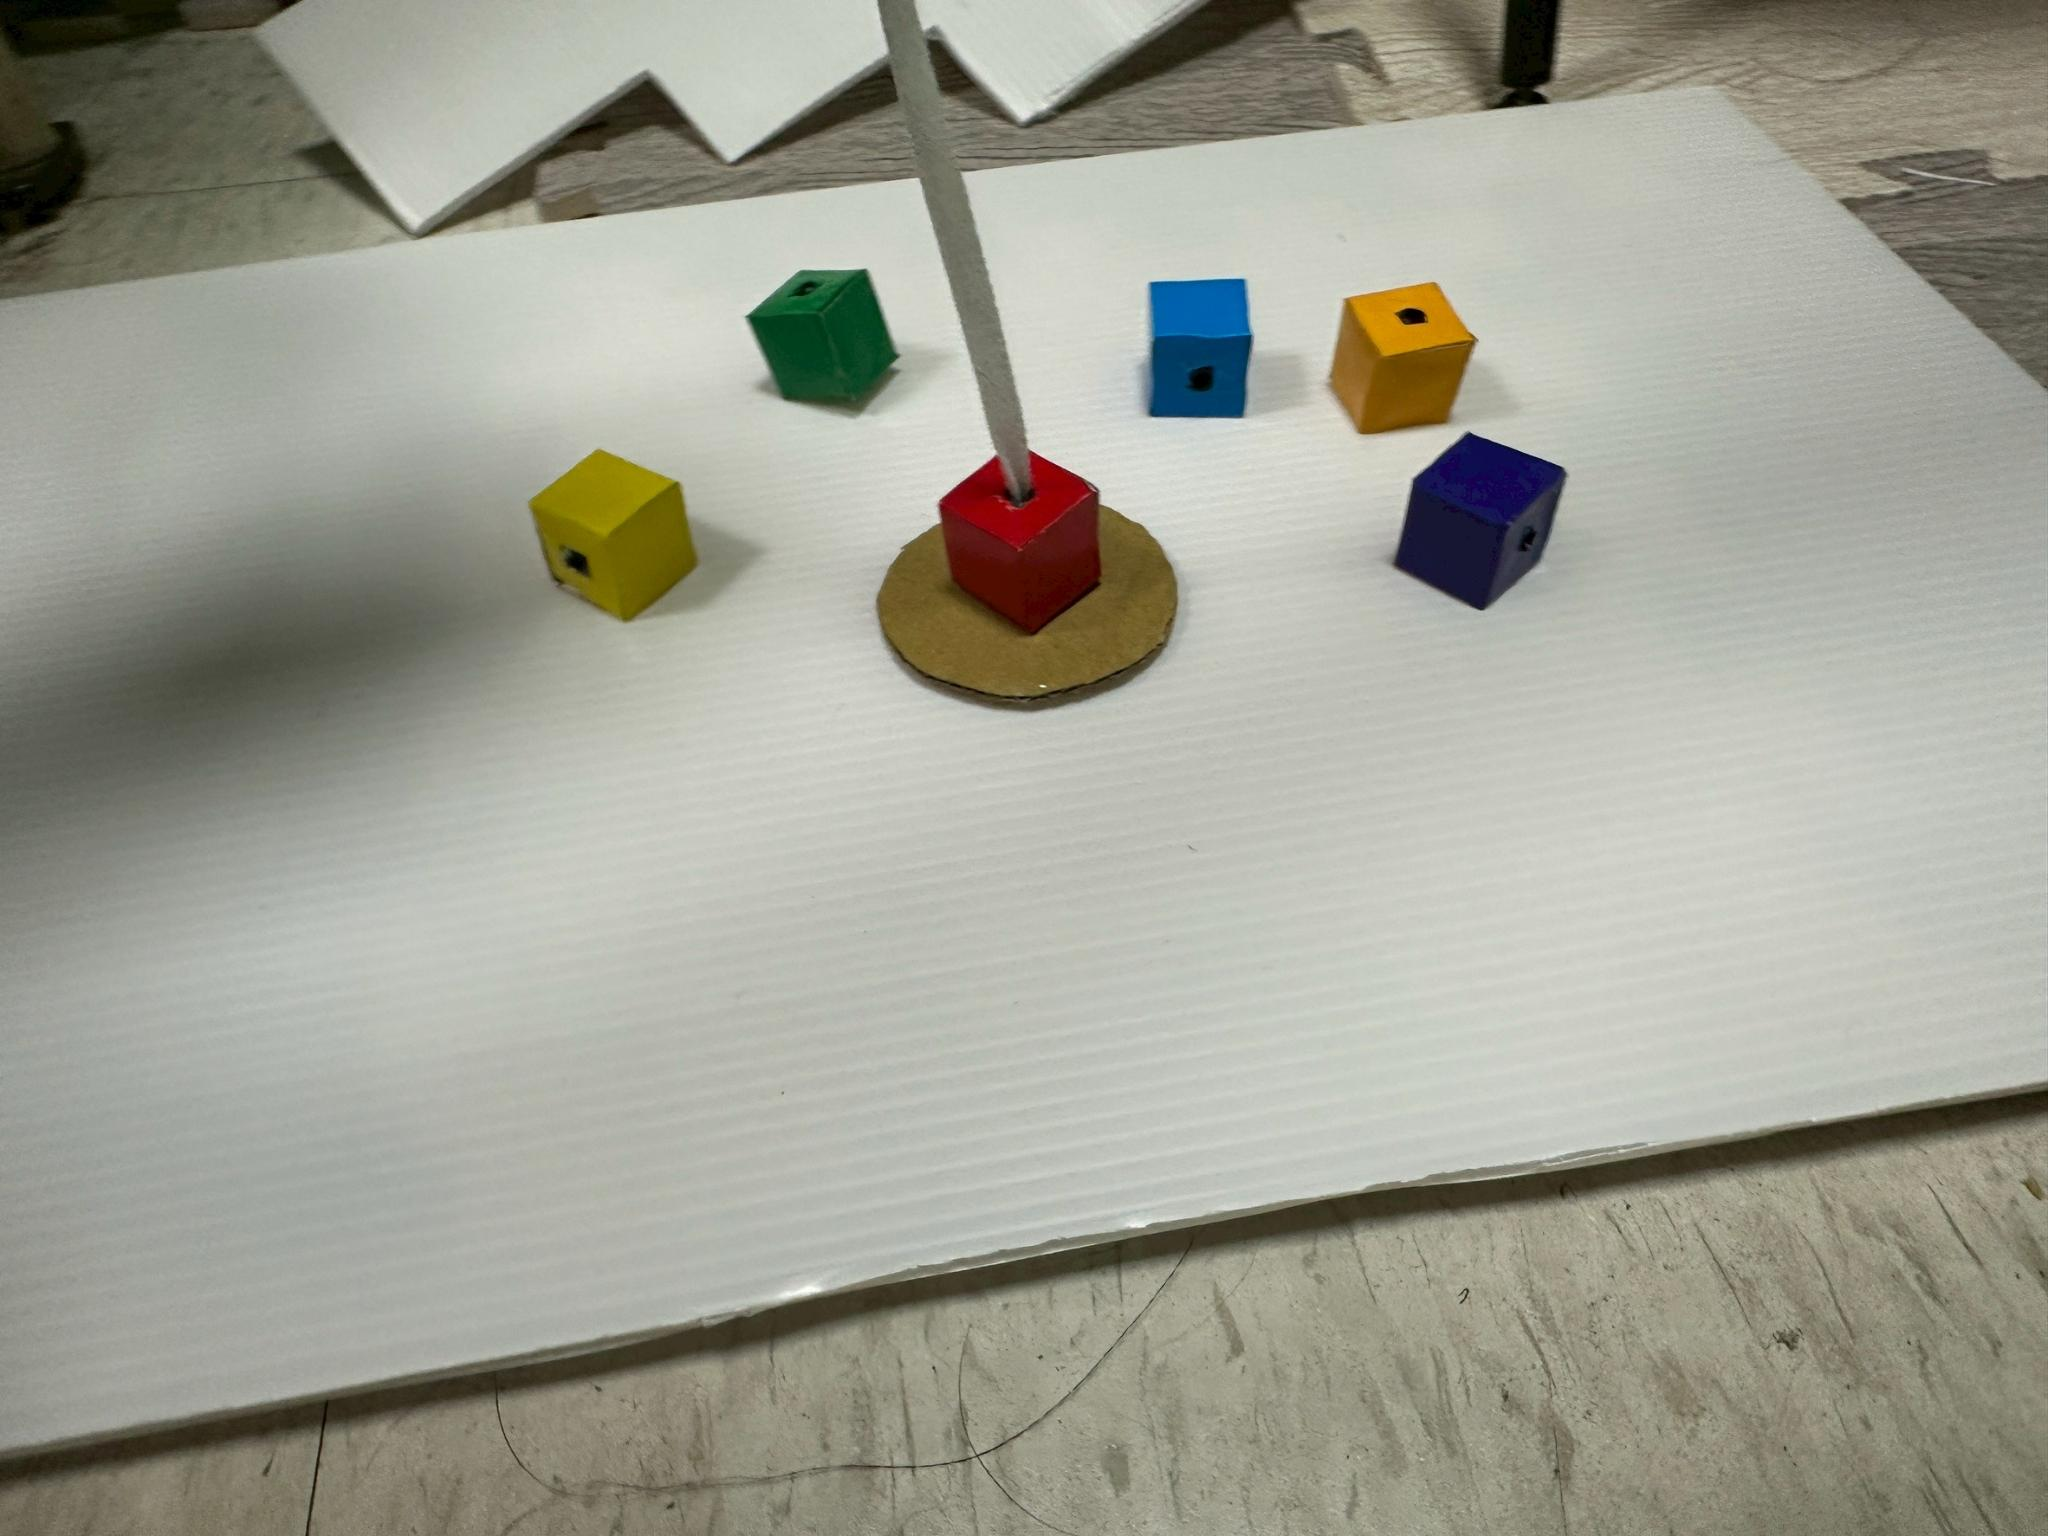base: (1393, 432, 1566, 608), (940, 453, 1101, 632), (531, 452, 695, 620), (1329, 284, 1476, 432), (748, 271, 897, 403), (1148, 279, 1251, 416)
